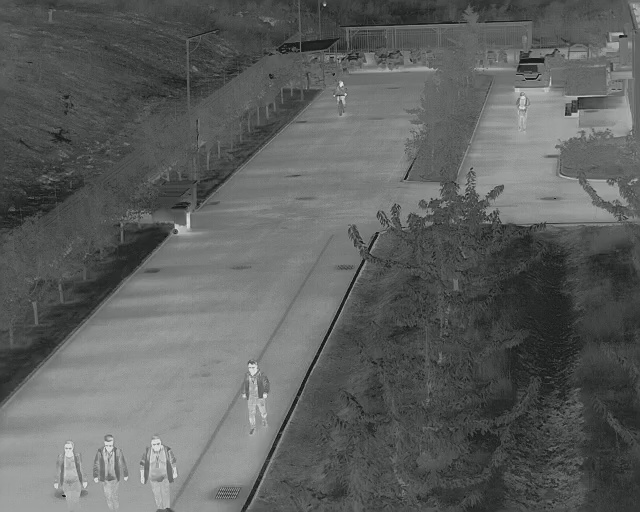NonMotorVehicle: (332, 80, 350, 118)
person: (91, 435, 132, 512), (139, 434, 179, 512), (52, 440, 89, 512), (241, 360, 271, 437), (515, 91, 530, 134)
vehicle: (512, 56, 553, 95)
